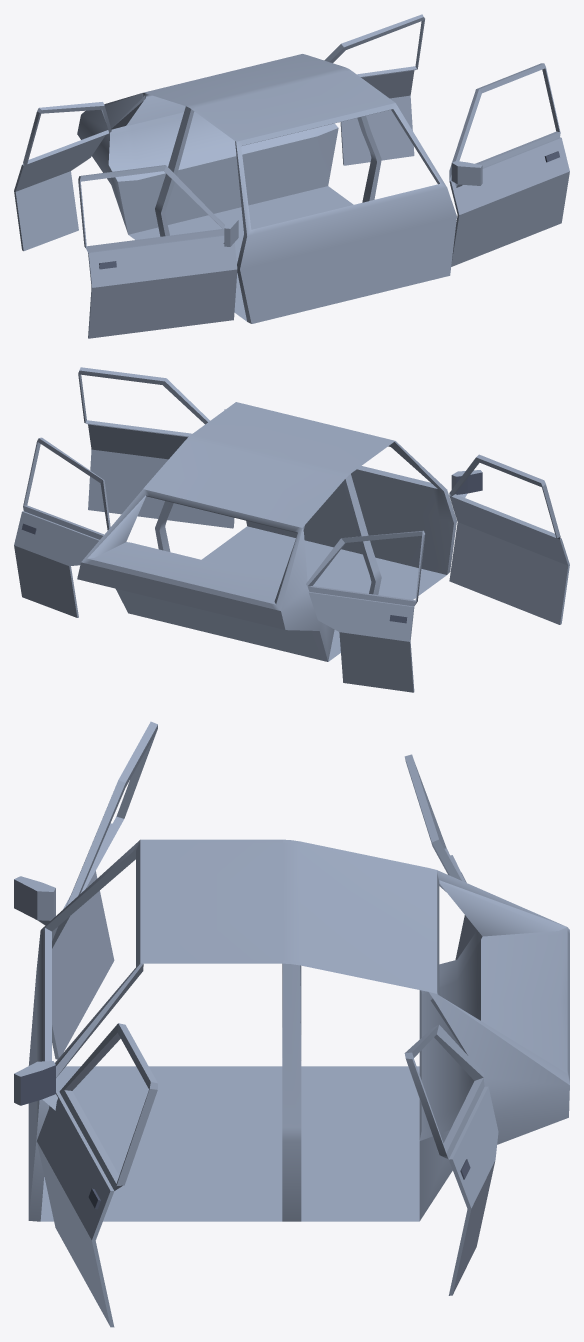
The model's file is Doors2.fbx.
3 renders of one model, top to bottom at view 1: azimuth 30°, elevation 25°; view 2: azimuth 150°, elevation 25°; view 3: azimuth 270°, elevation 25°, orthographic. The views are drawn at different scales.
Visible parts, largest first — view 1: Carcas.001; view 2: Carcas.001; view 3: Carcas.001.
Part boxes in pixels (x1,y1,x2,y2): Carcas.001: (14,14,569,338); Carcas.001: (14,367,569,692); Carcas.001: (14,721,569,1327).
Size of the model in its own units: 5.26 by 1.6 by 3.33.
